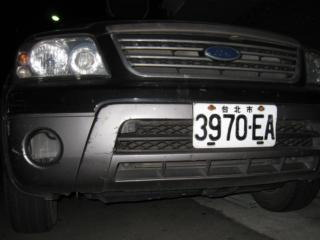plate: (191, 99, 278, 149)
